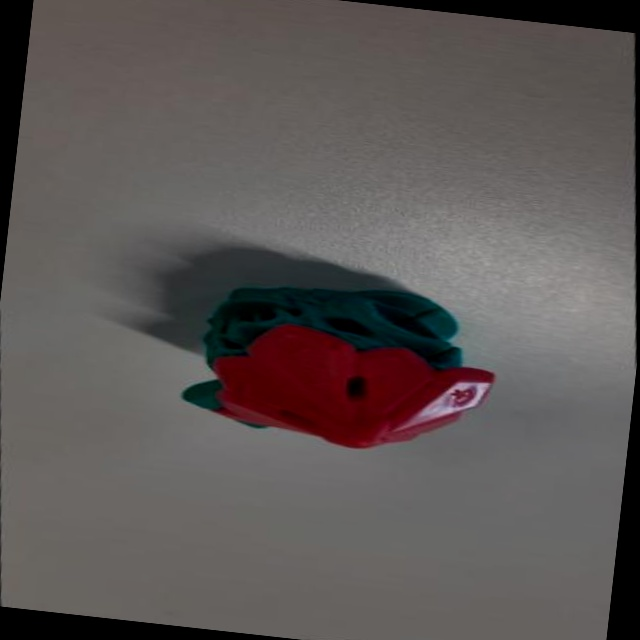House: (155, 247, 527, 473)
